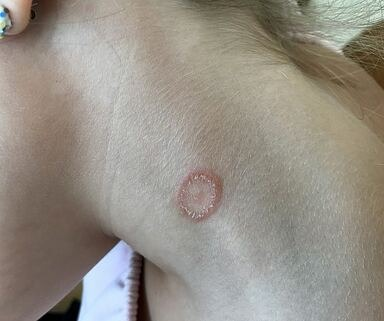Ringworm: (169, 163, 227, 230)
